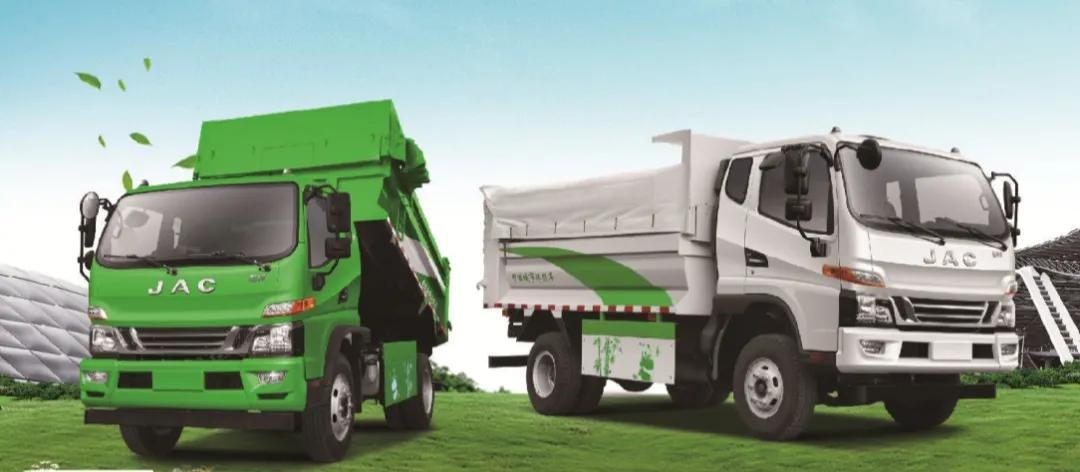truck: (477, 109, 1028, 452), (70, 96, 446, 461)
